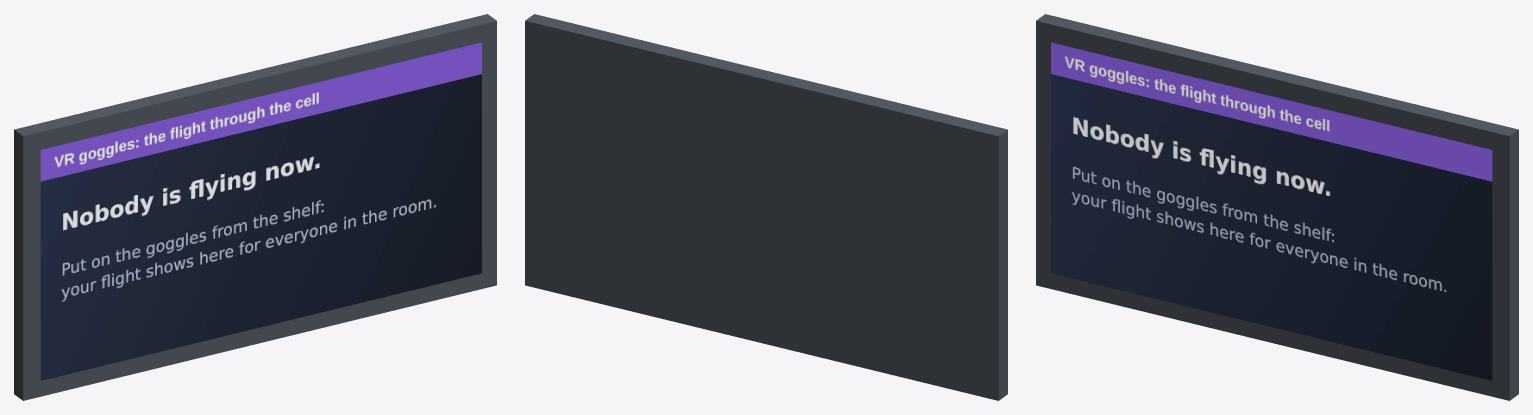
The model's file is game-screen.glb.
The picture shows the model from 3 angles, left to right: view 1: azimuth 30°, elevation 25°; view 2: azimuth 150°, elevation 25°; view 3: azimuth 330°, elevation 25°; orthographic projection.
Parts seen in each view (by area): view 1: GameScreen, frame; view 2: frame; view 3: GameScreen, frame.
Part boxes in pixels (left/top/right/bottom): GameScreen: left=40, top=42, right=481, bottom=380; frame: left=14, top=14, right=496, bottom=400; frame: left=525, top=14, right=1007, bottom=400; GameScreen: left=1051, top=42, right=1492, bottom=380; frame: left=1036, top=14, right=1518, bottom=400.
Bounding box in the file's own units: 1.18 × 0.63 × 0.045.
Materials: 2 (1 with a texture image).
